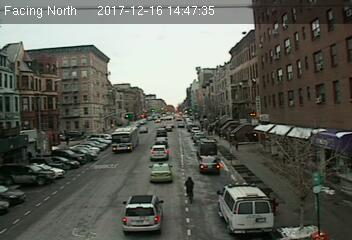bicycle: (183, 175, 198, 207)
bus: (110, 126, 139, 152)
car: (122, 194, 165, 231), (151, 161, 172, 185), (198, 156, 220, 173), (148, 145, 170, 160), (153, 136, 169, 144)
police: (219, 183, 274, 230)
